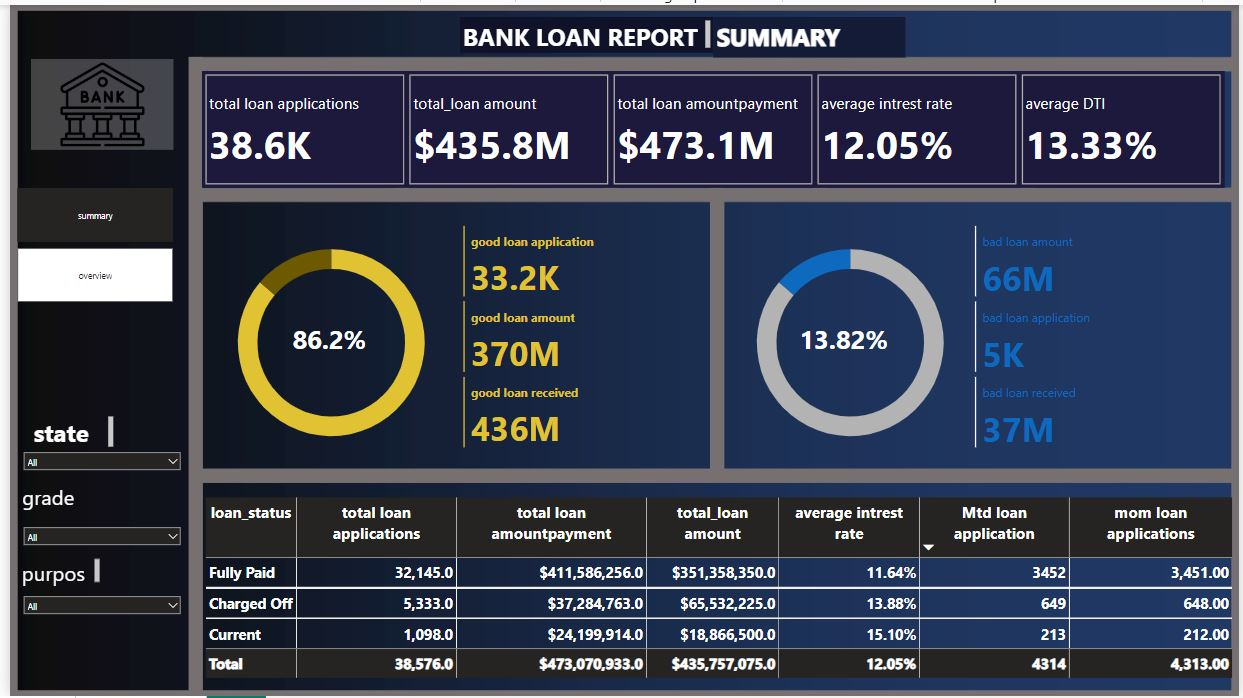

The page's visual inventory and layout, read from the dashboard file:
{"tool":"powerbi","page":{"name":"summary","canvas":[1920,1080],"ordinal":0},"visuals":[{"type":"cardVisual","fields":{"Data":["Table.total loan applications","Table.total_loan amount","Table.total loan amount","Table.average intrest rate","Table.average DTI"]},"box":[300.1,103.2,1598.9,182.9],"z":0},{"type":"textbox","box":[703.3,18.8,396.2,56.3],"z":1000},{"type":"textbox","box":[1099.6,18.8,300.1,63.3],"z":2000},{"type":"cardVisual","fields":{"Data":["Table.good loan application","Table.good loan amount","Table.good loan received"]},"box":[703.3,339.9,396.2,356.4],"z":3000},{"type":"cardVisual","fields":{"Data":["Table.bad loan amount","Table.bad loan application","Table.bad loan received"]},"box":[1502.8,339.9,396.2,356.4],"z":4000},{"type":"donutChart","fields":{"Y":["Table.total loan applications"],"Category":["financial_loan.loan_status (groups)"]},"box":[300.1,339.9,403.3,375.1],"z":5000},{"type":"tableEx","fields":{"Values":["financial_loan.loan_status","Table.total loan applications","Table.total loan amountpayment","Table.total_loan amount","Table.average intrest rate","Table.Mtd loan application","Table.mom loan applications"]},"box":[300.1,764.3,1620,300.1],"z":6000},{"type":"cardVisual","fields":{"Data":["Table.good loan %"]},"box":[424.4,464.2,192.2,105.5],"z":7000},{"type":"donutChart","fields":{"Y":["Table.total loan applications"],"Category":["financial_loan.loan_status (groups)"]},"box":[1111.3,339.9,403.3,375.1],"z":8000},{"type":"cardVisual","fields":{"Data":["Table.bad loan %"]},"box":[1216.8,464.2,192.2,105.5],"z":9000},{"type":"slicer","fields":{"Values":["financial_loan.grade"]},"box":[11.7,806.5,264.9,53.9],"z":10000},{"type":"slicer","fields":{"Values":["financial_loan.purpose"]},"box":[11.7,914.3,264.9,63.3],"z":11000},{"type":"slicer","fields":{"Values":["financial_loan.address_state"]},"box":[11.7,689.3,264.9,51.6],"z":12000},{"type":"textbox","box":[32.8,637.7,133.6,58.6],"z":13000},{"type":"image","box":[31.8,83.2,222.8,142],"z":14000},{"type":"pageNavigator","box":[11.7,286,243.8,178.2],"z":14001},{"type":"textbox","box":[14.1,740.9,131.3,65.6],"z":14002},{"type":"textbox","box":[14.1,860.4,131.3,65.6],"z":14003}]}

Visuals, with their boxes in screenshot pixels (x1, y1, x2, y2), scaled from the page's 1920x1080 canvas onto the 1243x698 screenshot:
cardVisual - Table.total loan applications x Table.total_loan amount: bbox=[194, 67, 1229, 185]
textbox: bbox=[455, 12, 712, 49]
textbox: bbox=[712, 12, 906, 53]
cardVisual - Table.good loan application x Table.good loan amount: bbox=[455, 220, 712, 450]
cardVisual - Table.bad loan amount x Table.bad loan application: bbox=[973, 220, 1229, 450]
donutChart - Table.total loan applications x financial_loan.loan_status (groups): bbox=[194, 220, 455, 462]
tableEx - financial_loan.loan_status x Table.total loan applications: bbox=[194, 494, 1242, 688]
cardVisual - Table.good loan %: bbox=[275, 300, 399, 368]
donutChart - Table.total loan applications x financial_loan.loan_status (groups): bbox=[719, 220, 981, 462]
cardVisual - Table.bad loan %: bbox=[788, 300, 912, 368]
slicer - financial_loan.grade: bbox=[8, 521, 179, 556]
slicer - financial_loan.purpose: bbox=[8, 591, 179, 632]
slicer - financial_loan.address_state: bbox=[8, 445, 179, 479]
textbox: bbox=[21, 412, 108, 450]
image: bbox=[21, 54, 165, 146]
pageNavigator: bbox=[8, 185, 165, 300]
textbox: bbox=[9, 479, 94, 521]
textbox: bbox=[9, 556, 94, 598]
